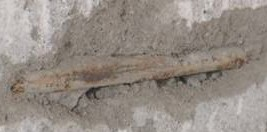Exposed reinforcement: (10, 45, 246, 95)
Spalling: (1, 1, 267, 132)
